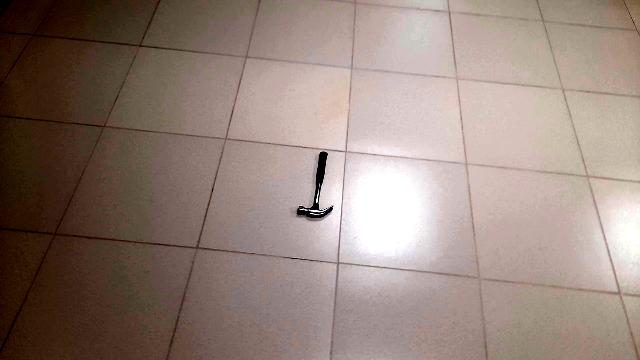hammer: (300, 152, 334, 228)
